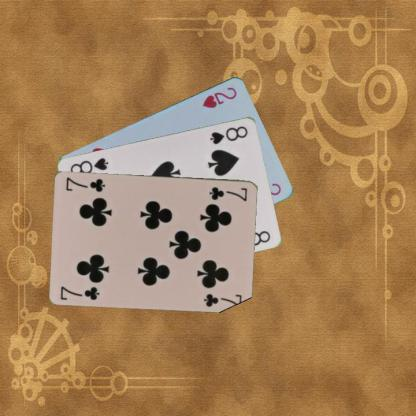2h: (200, 84, 238, 110)
7c: (58, 283, 101, 301), (207, 184, 249, 202)
8s: (207, 124, 249, 146)
